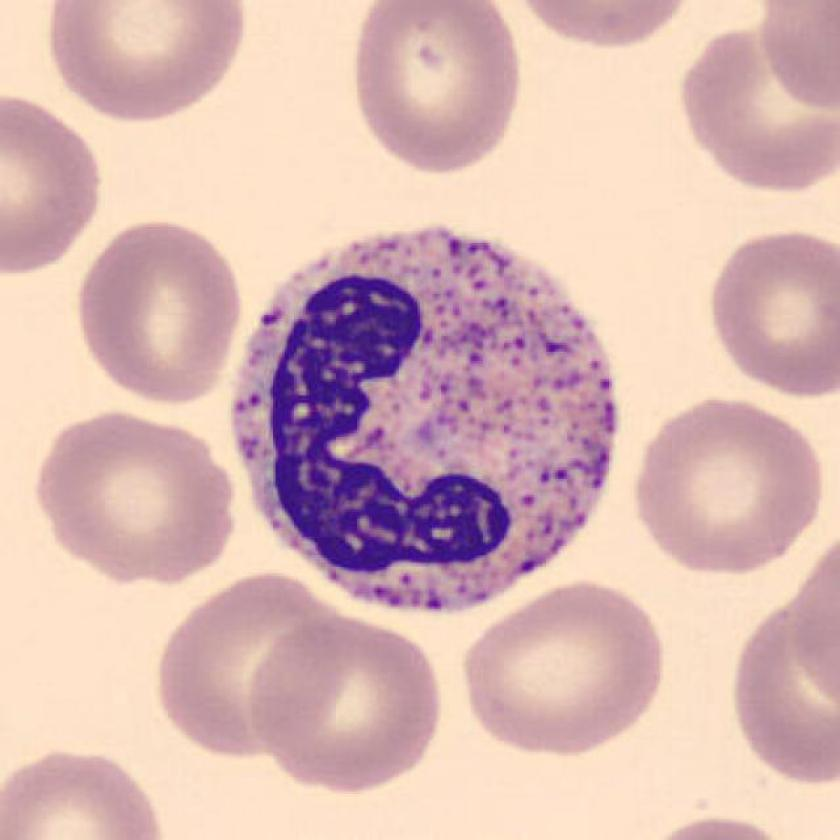neutrophil: (235, 224, 615, 615)
